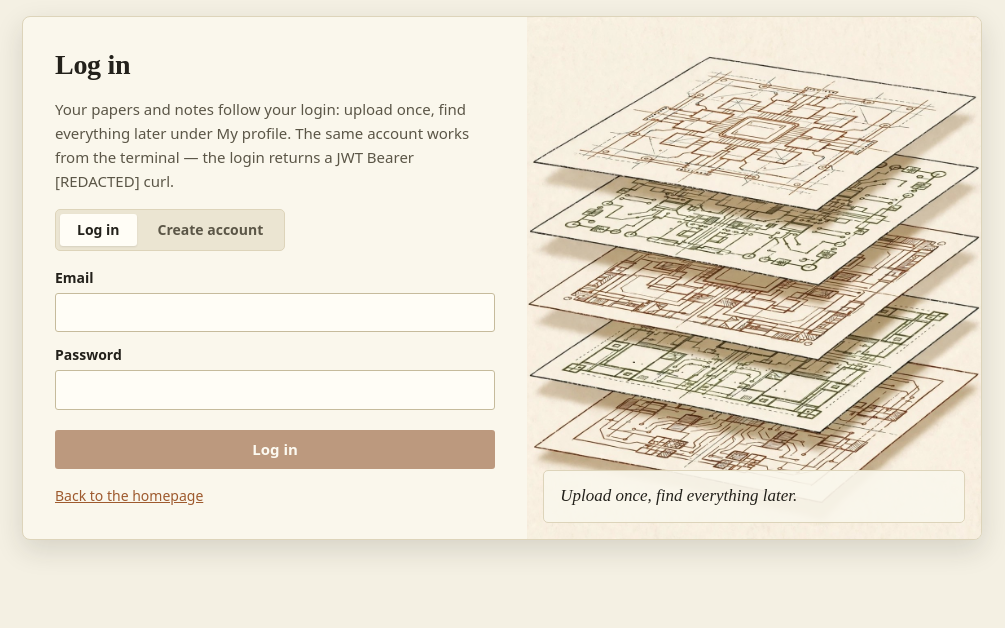
Scenario: LoginPage › shows the server message on bad credentials
This screenshot has width=1005, height=628.
Type "ghost@example.com" into the field labelled "Email" at x=275, y=312, box [55, 293, 495, 332]
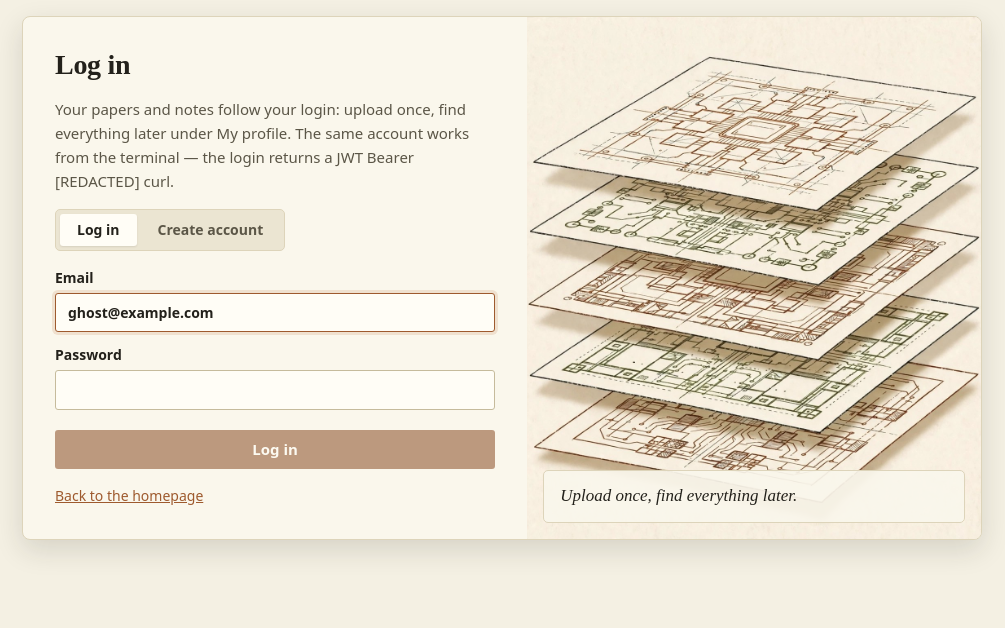
Type "wrong-horse-9" into the password field labelled "Password" at x=275, y=390, box [55, 370, 495, 410]
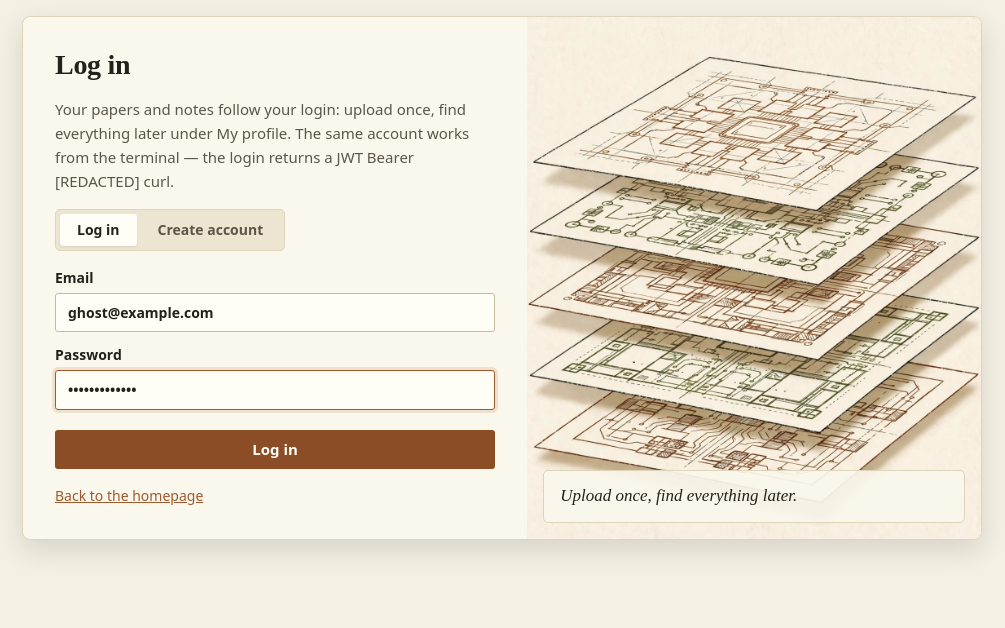
Click the button "Log in" below "Password" at x=275, y=449, box [55, 430, 495, 469]
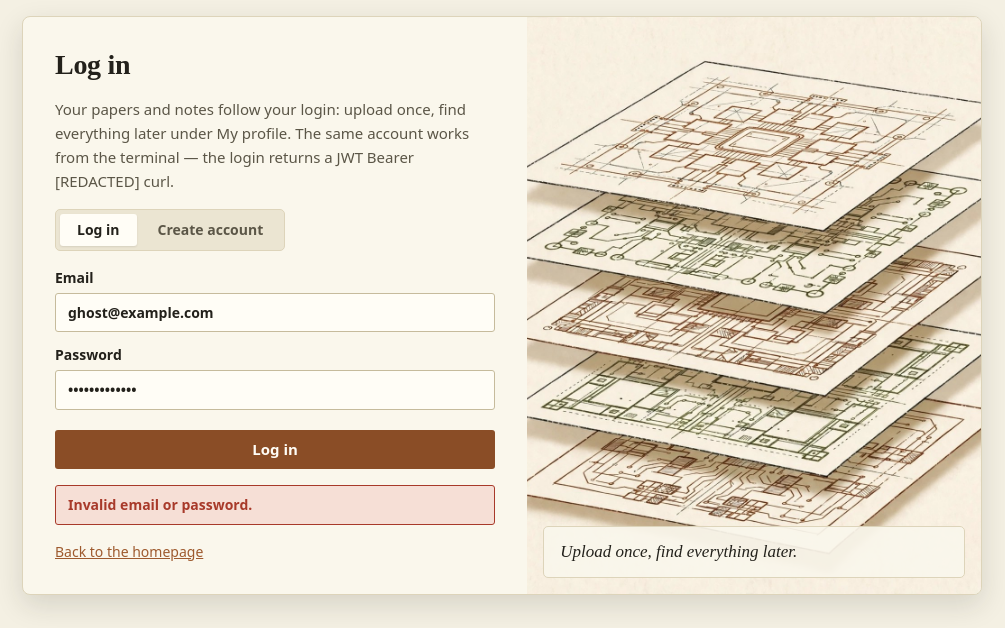
Result: the message reads "Invalid email or password." at [68, 495, 252, 514]
